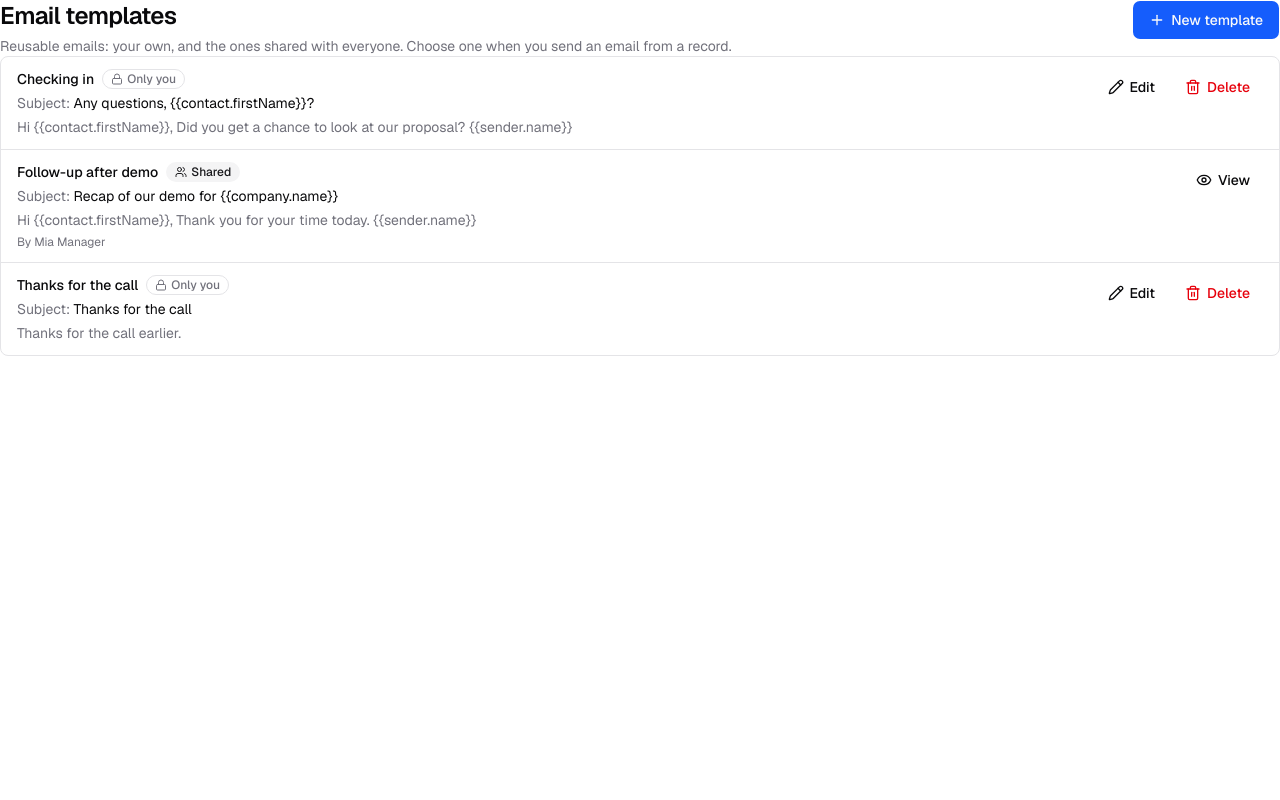
Test: EmailTemplatesPage › sends nothing while a field is missing or too long
Click the button "New template" at coordinates (1206, 20), box [1132,0,1279,40]
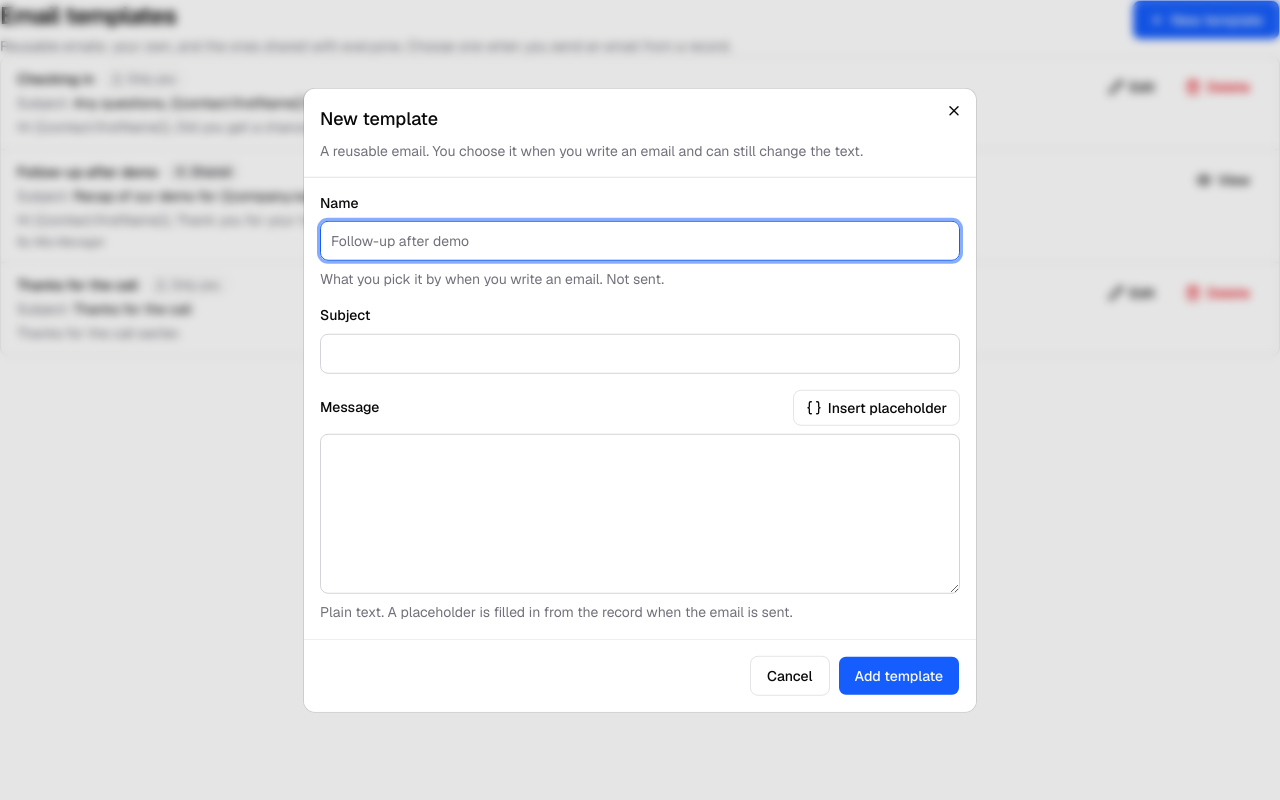
Click the button "Add template" at coordinates (899, 675), box [838,655,960,695]
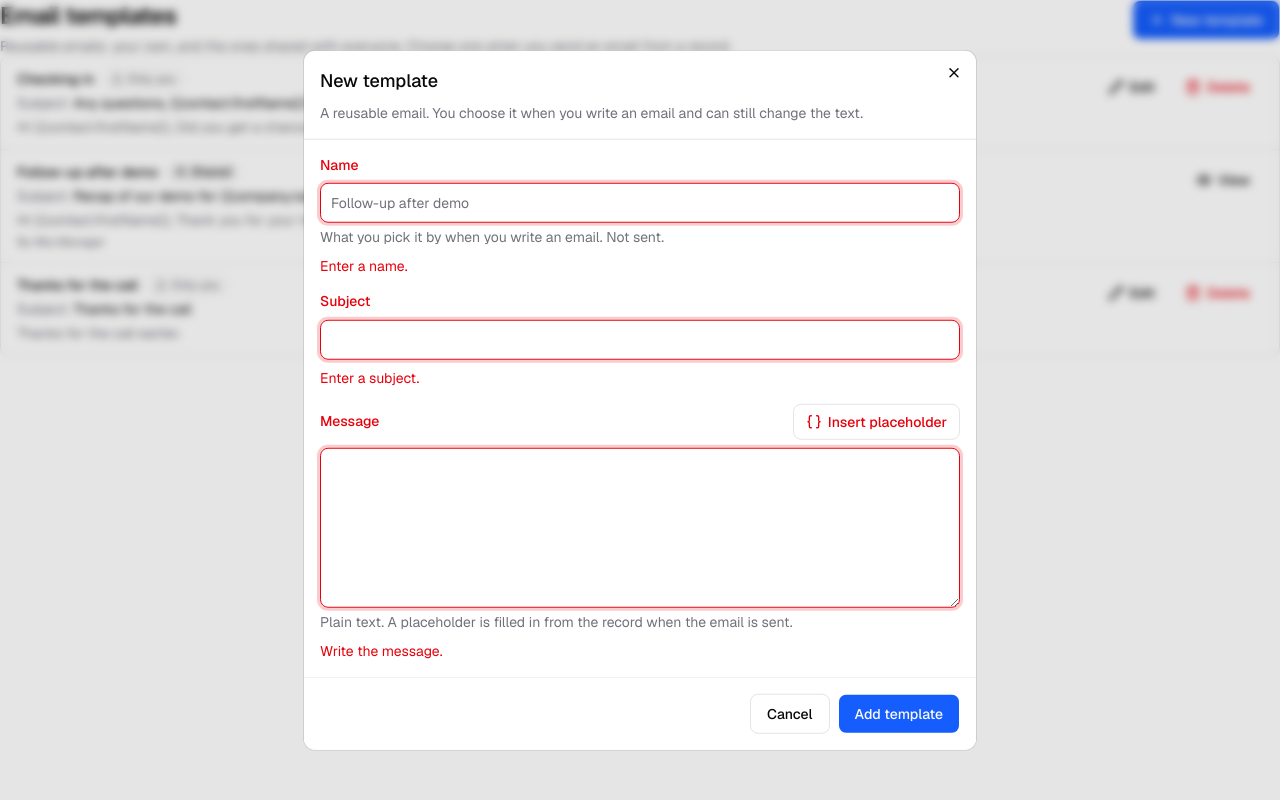
Expected: the text "Enter a name." is shown, [320,257,408,275]
Expected: the text "Enter a subject." is shown, [320,368,419,386]
Expected: the text "Write the message." is shown, [320,641,442,659]
